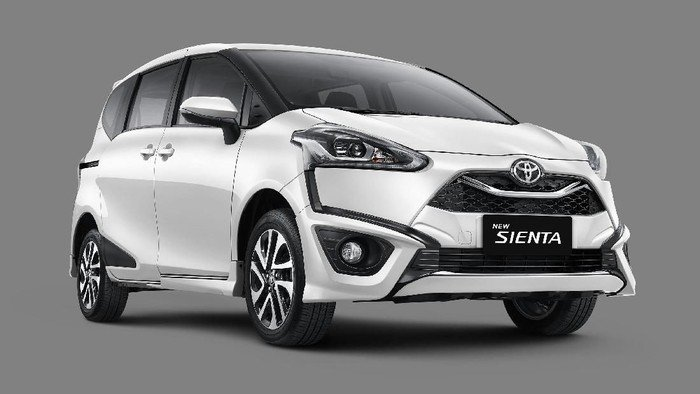mobil: (60, 40, 639, 357)
